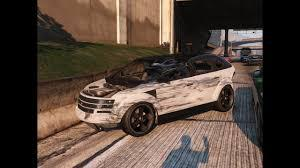bonnet-dent: (87, 76, 129, 100)
doorouter-dent: (158, 83, 197, 111), (198, 73, 223, 104)
front-bumper-dent: (74, 108, 120, 124)
